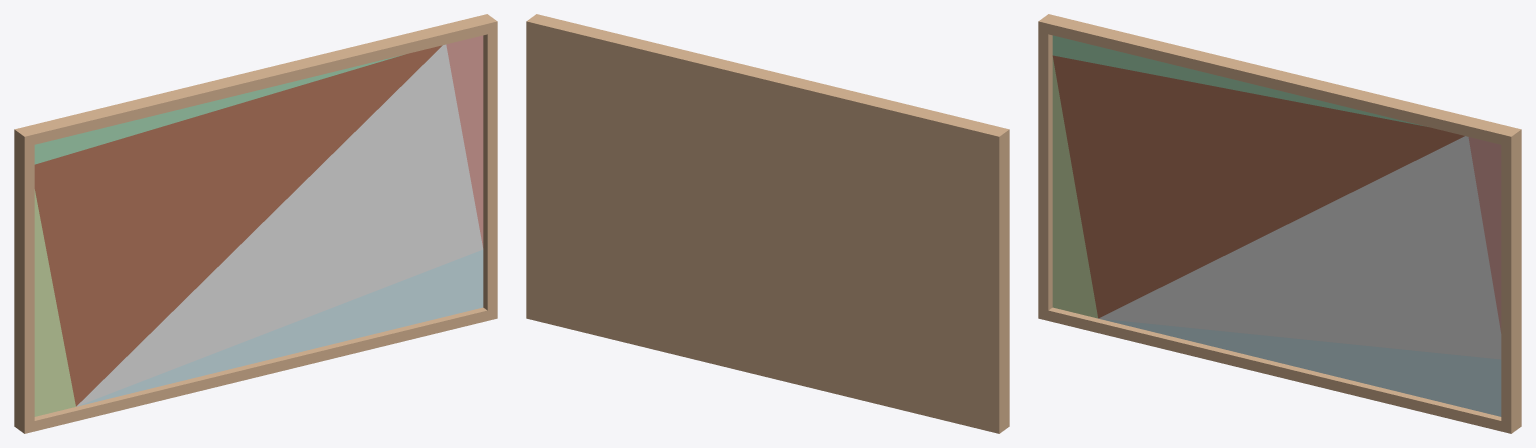
File: picture5.fbx
3 renders of one model, left to right at view 1: azimuth 30°, elevation 25°; view 2: azimuth 150°, elevation 25°; view 3: azimuth 330°, elevation 25°, orthographic.
Visible parts, largest first — view 1: Cube_18; view 2: Cube_18; view 3: Cube_18.
Part boxes in pixels (<box>): Cube_18: <box>14,14,497,433</box>; Cube_18: <box>526,14,1009,433</box>; Cube_18: <box>1038,14,1521,433</box>.
Bounding box in the file's own units: 42.49 × 25.51 × 1.58.
